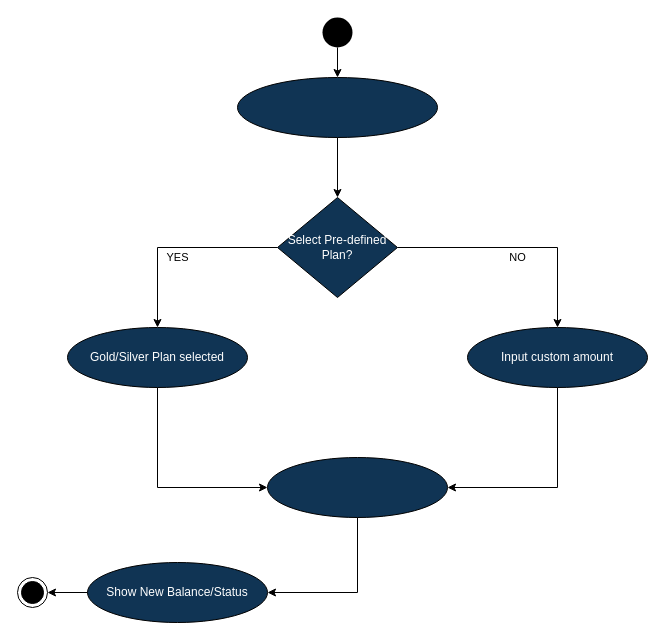
Image size: 665x640. Some labels were removed from this diagram. The centre of each missing label's shape, as x and y in pixels:
"Click to Confirm Payment" goes at (x=357, y=487).
"Select Subscription/Recharge Option" goes at (x=337, y=107).
